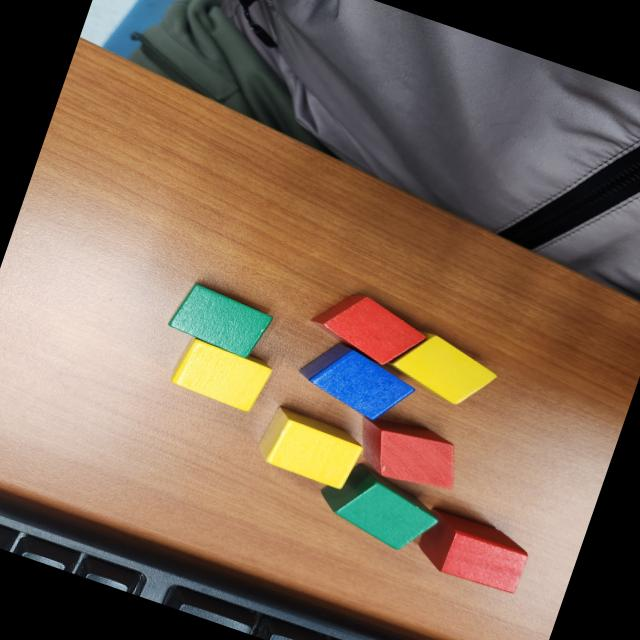blue: (290, 332, 422, 430)
green: (310, 454, 448, 560), (164, 278, 279, 364)
red: (305, 280, 434, 376), (346, 406, 471, 501), (409, 504, 534, 598)
yellow: (382, 323, 506, 418), (258, 405, 366, 493), (168, 333, 276, 418)
